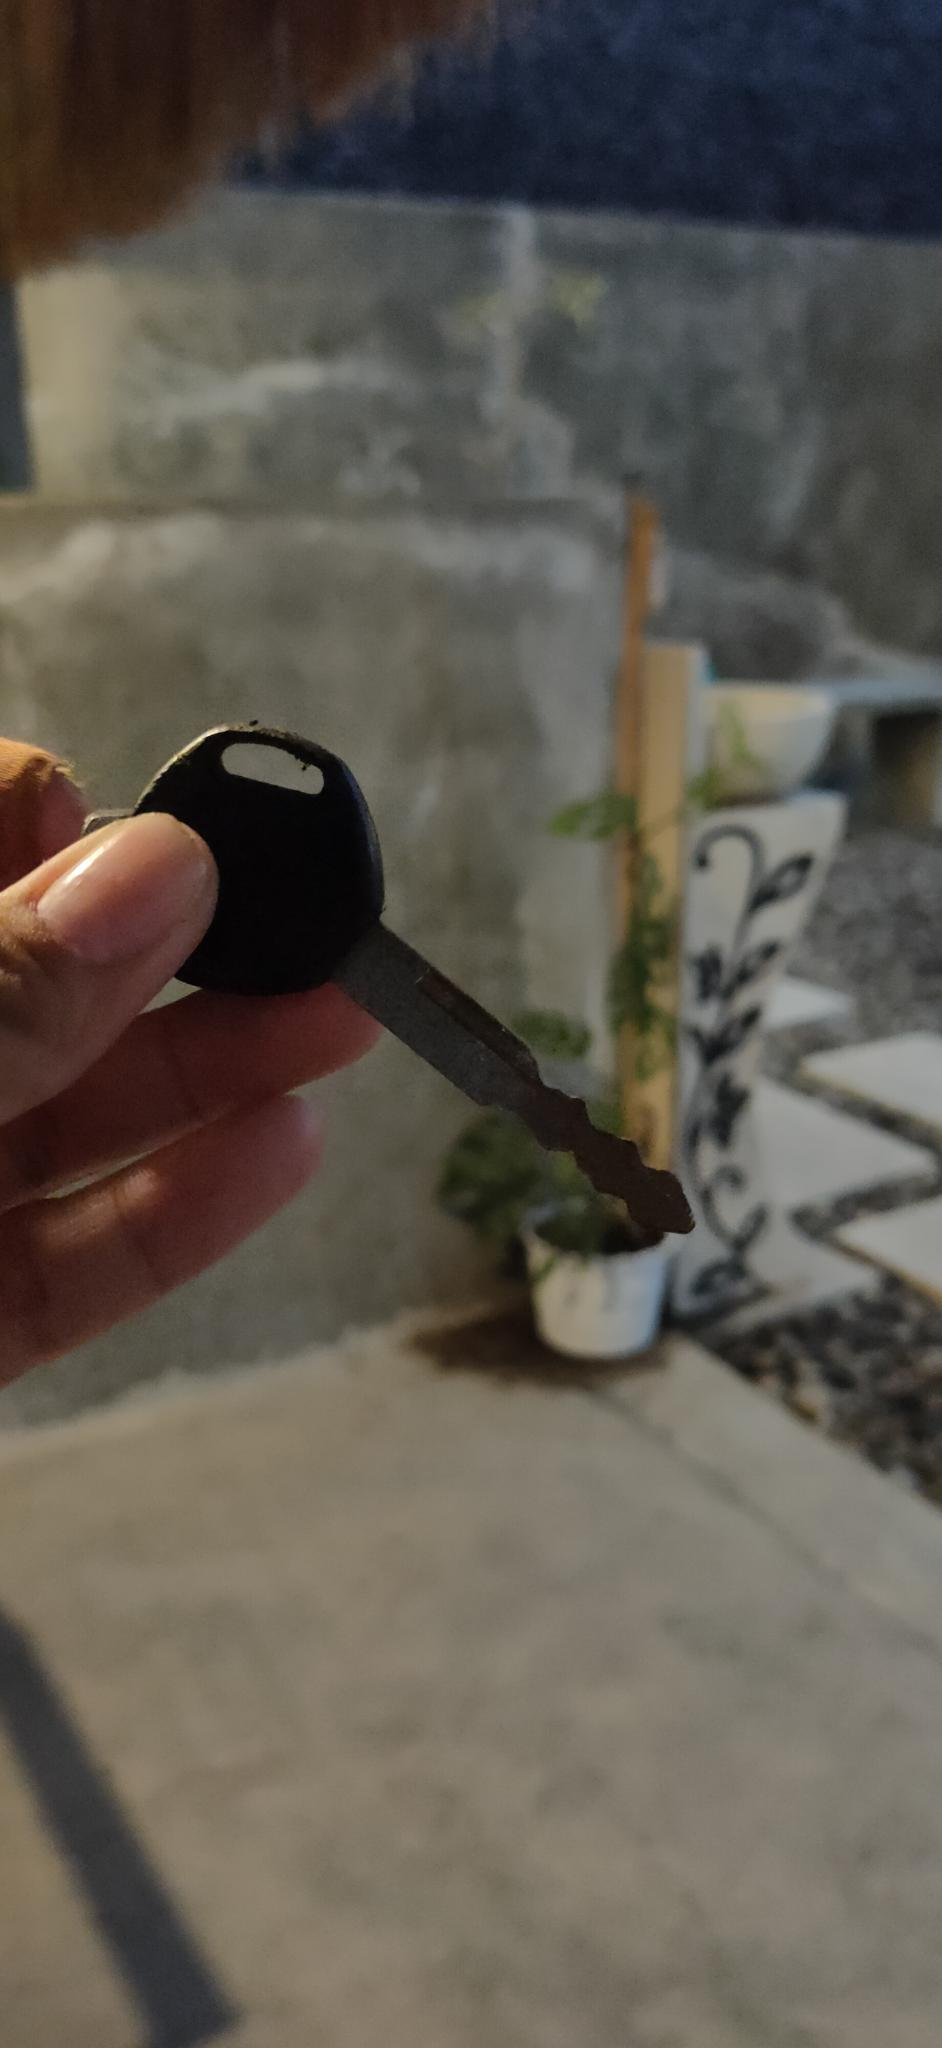keys: (115, 708, 707, 1255)
